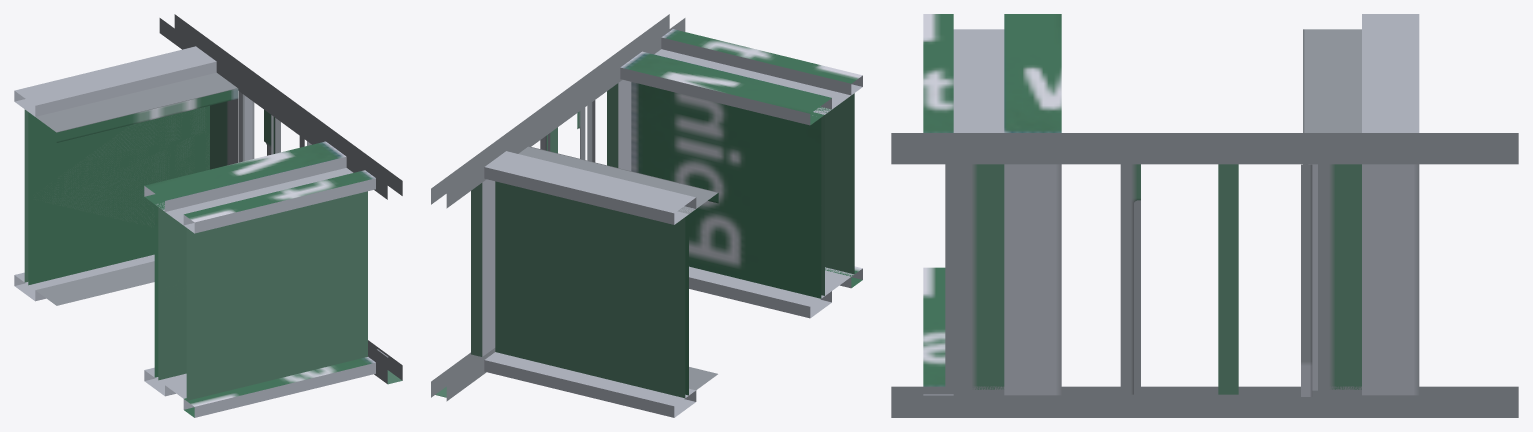
The model's file is section-1.obj.
3 views of the same model, side by side, from view 1: azimuth 30°, elevation 25°; view 2: azimuth 150°, elevation 25°; view 3: azimuth 270°, elevation 25° (orthographic). The views are drawn at different scales.
Bounding box in the file's own units: 0.9275 × 0.9 × 1.86.
